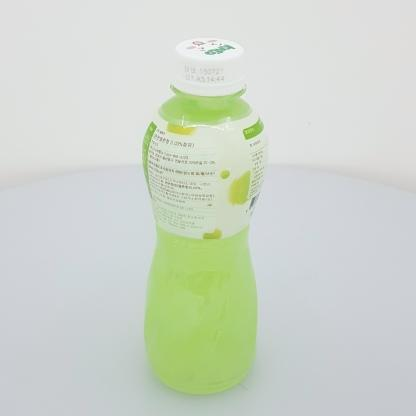-----------: (142, 38, 269, 394)
